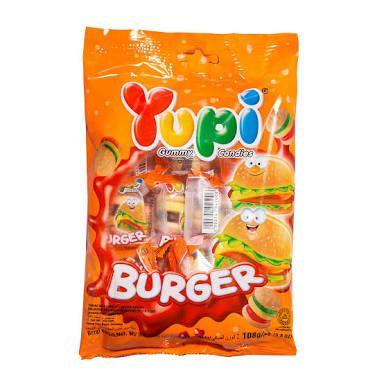Plastik: (79, 27, 299, 360)
